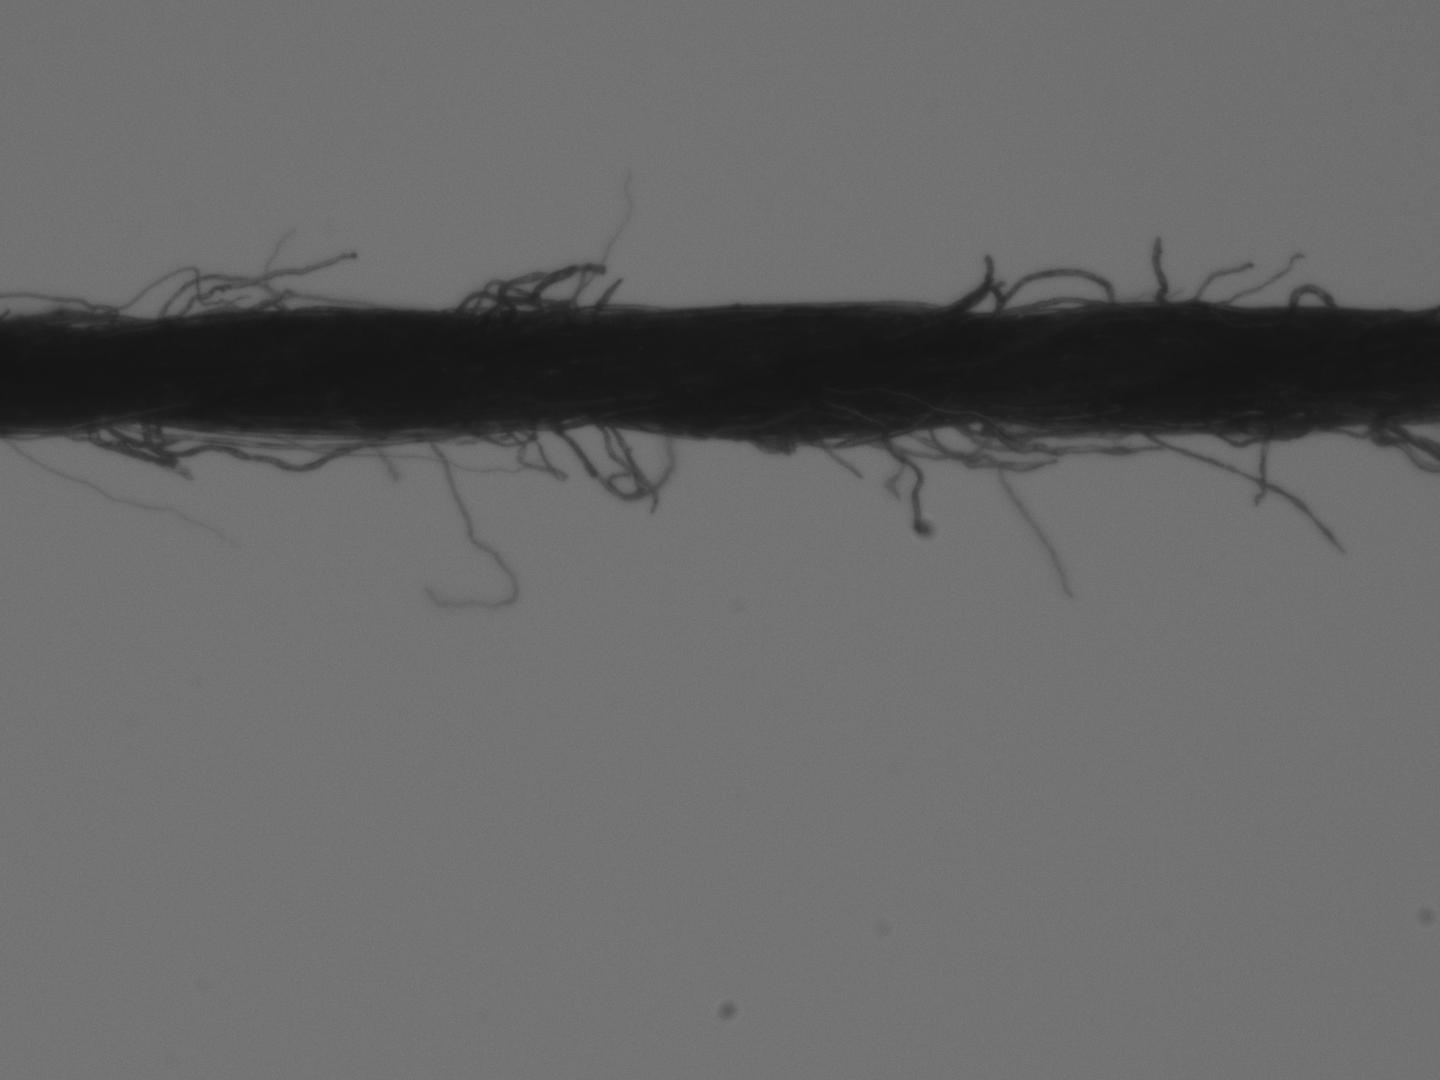loop_fiber: (144, 415, 399, 476), (155, 271, 278, 326), (994, 263, 1120, 312), (874, 416, 1003, 458), (452, 282, 577, 323), (69, 421, 178, 466), (1219, 422, 1312, 447), (941, 285, 1002, 319), (465, 423, 544, 448), (740, 431, 815, 454), (1284, 280, 1339, 306)
protruding_fiber: (1142, 433, 1353, 556), (882, 430, 932, 540), (1213, 248, 1304, 307), (547, 421, 602, 483), (1188, 260, 1251, 309), (581, 276, 624, 321), (1255, 431, 1274, 507), (1152, 237, 1170, 309)
